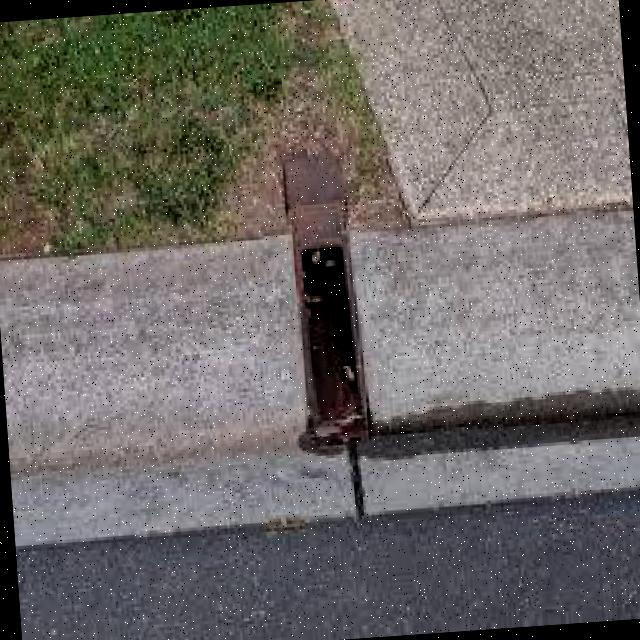curb: (1, 208, 640, 542)
